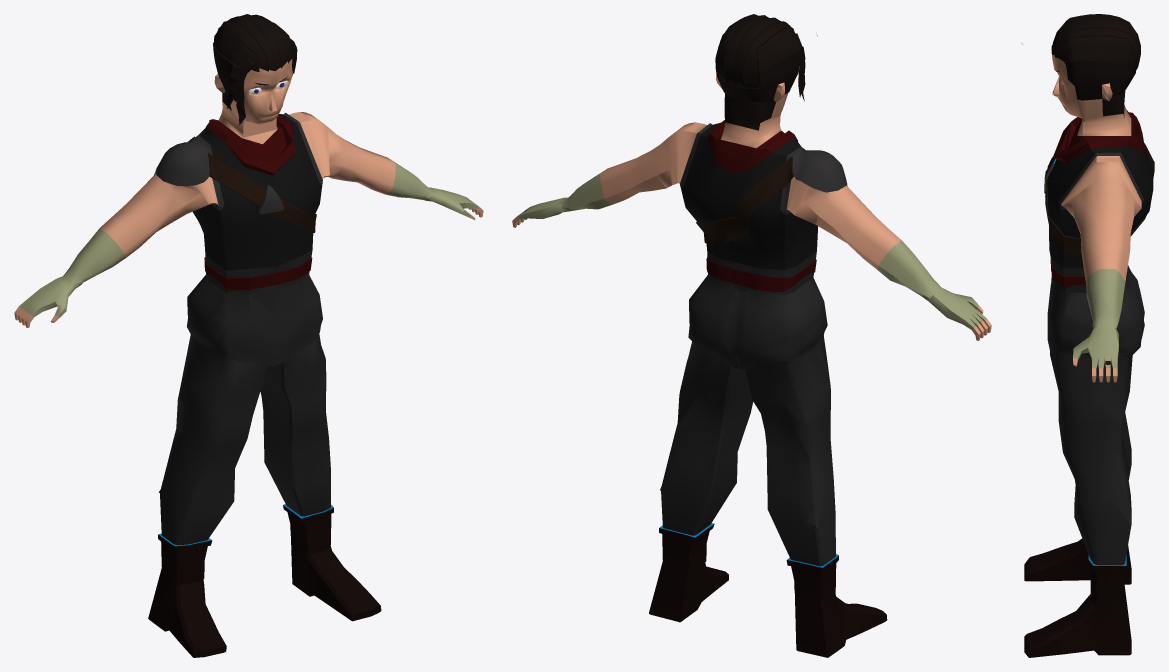
File: MiraiColor.fbx
3 renders of one model, left to right at view 1: azimuth 30°, elevation 25°; view 2: azimuth 150°, elevation 25°; view 3: azimuth 270°, elevation 25°, orthographic. The views are drawn at different scales.
Visible parts, largest first — view 1: Mirai; view 2: Mirai; view 3: Mirai.
Part boxes in pixels (x1,y1,x2,y2): Mirai: (14, 14, 483, 657); Mirai: (512, 14, 991, 657); Mirai: (1021, 14, 1154, 657).
Size of the model in its own units: 1.4 by 1.73 by 0.3543.
